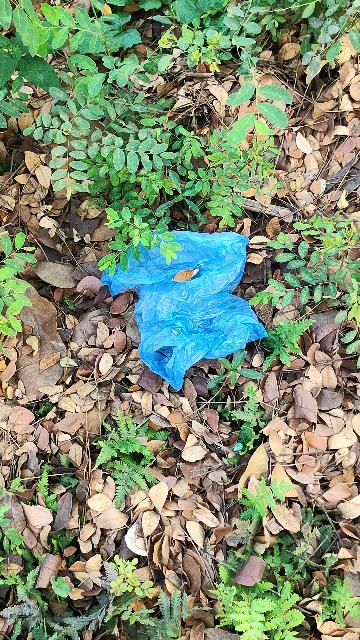polythene: (85, 222, 269, 394)
